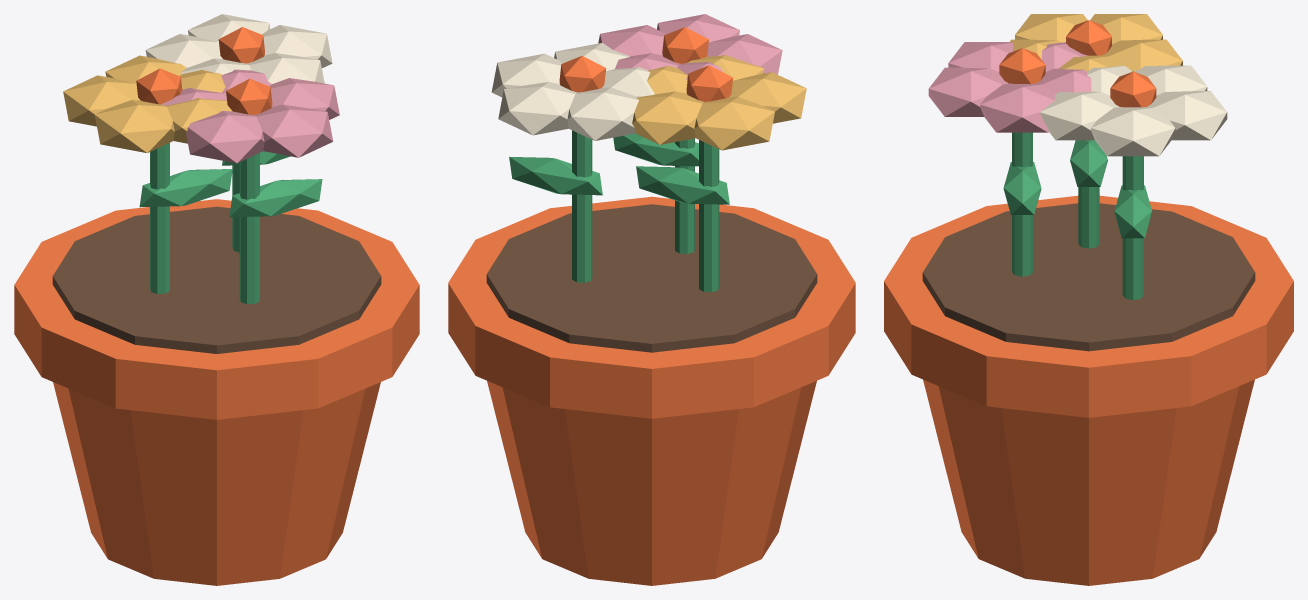
The model's file is flowerpot.glb.
The picture shows the model from 3 angles, left to right: view 1: azimuth 30°, elevation 25°; view 2: azimuth 150°, elevation 25°; view 3: azimuth 270°, elevation 25°; orthographic projection.
Parts seen in each view (by area): view 1: flowerpot__Terracotta pot, flowerpot__Rim, flowerpot__Soil, flowerpot__Petal.003, flowerpot__Petal.013, flowerpot__Petal.014, flowerpot__Stem.002, flowerpot__Stem, flowerpot__Leaf, flowerpot__Leaf.002, flowerpot__Petal.002, flowerpot__Petal.005 (+13 smaller); view 2: flowerpot__Terracotta pot, flowerpot__Rim, flowerpot__Soil, flowerpot__Petal.002, flowerpot__Petal.006, flowerpot__Petal.007, flowerpot__Petal.001, flowerpot__Stem.001, flowerpot__Stem, flowerpot__Leaf.001, flowerpot__Leaf, flowerpot__Petal.003 (+14 smaller); view 3: flowerpot__Terracotta pot, flowerpot__Rim, flowerpot__Soil, flowerpot__Petal.005, flowerpot__Petal.010, flowerpot__Petal.006, flowerpot__Petal.014, flowerpot__Petal.009, flowerpot__Stem.001, flowerpot__Stem.002, flowerpot__Petal.001, flowerpot__Leaf.001 (+14 smaller).
Boxes of the visible parts, x1,y1,x2,y2 form: flowerpot__Terracotta pot: (53,382,380,585); flowerpot__Rim: (14,199,419,419); flowerpot__Soil: (52,206,381,353); flowerpot__Petal.003: (94,100,174,153); flowerpot__Petal.013: (186,111,264,163); flowerpot__Petal.014: (255,104,333,157); flowerpot__Stem.002: (239,153,259,304); flowerpot__Stem: (150,143,169,293); flowerpot__Leaf: (139,169,232,207); flowerpot__Leaf.002: (229,179,322,217); flowerpot__Petal.002: (63,75,140,126); flowerpot__Petal.005: (262,25,332,68); flowerpot__Terracotta pot: (487,381,816,585); flowerpot__Rim: (448,196,855,418); flowerpot__Soil: (486,204,817,352); flowerpot__Petal.002: (694,97,774,150); flowerpot__Petal.006: (498,82,577,135); flowerpot__Petal.007: (567,87,638,140); flowerpot__Petal.001: (632,91,703,144); flowerpot__Stem.001: (572,130,592,282); flowerpot__Stem: (699,140,719,292); flowerpot__Leaf.001: (509,156,602,195); flowerpot__Leaf: (636,166,729,204); flowerpot__Petal.003: (729,72,806,123); flowerpot__Terracotta pot: (923,379,1254,585); flowerpot__Rim: (884,195,1293,417); flowerpot__Soil: (922,203,1255,351); flowerpot__Petal.005: (1091,107,1175,156); flowerpot__Petal.010: (980,83,1054,132); flowerpot__Petal.006: (1147,91,1227,140); flowerpot__Petal.014: (928,67,1008,116); flowerpot__Petal.009: (1039,91,1119,140); flowerpot__Stem.001: (1122,156,1143,299); flowerpot__Stem.002: (1012,132,1032,276); flowerpot__Petal.001: (1102,39,1182,71); flowerpot__Leaf.001: (1114,185,1152,238).
Bounding box in the file's own units: 0.148 × 0.1928 × 0.148.
